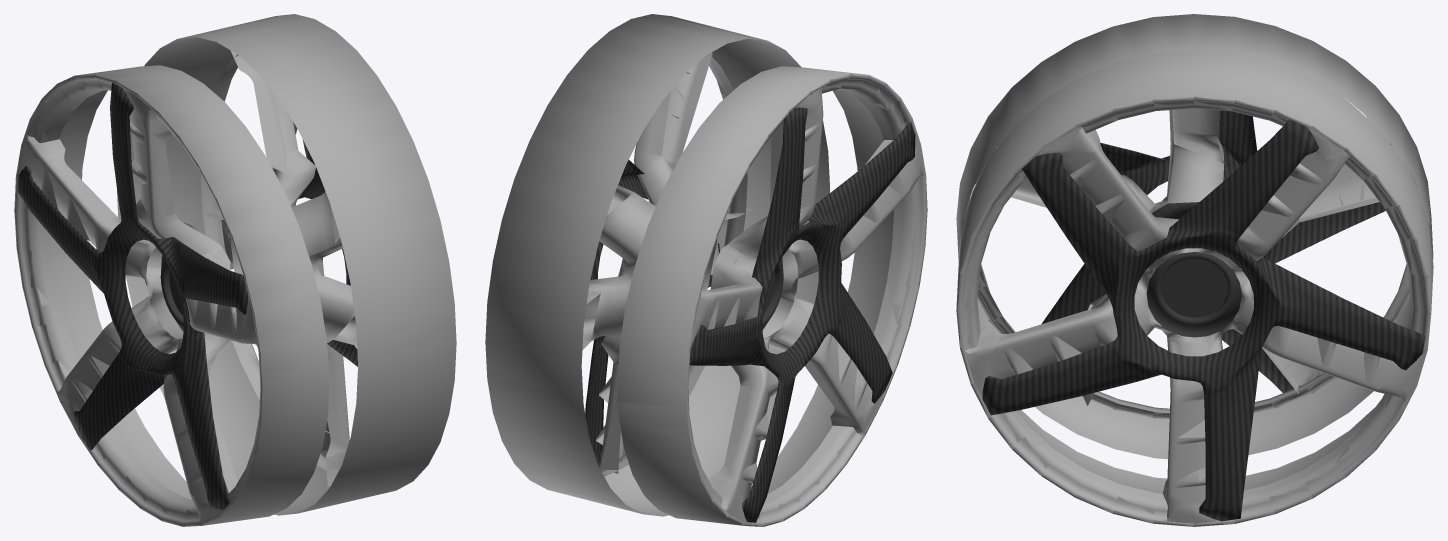
The model's file is rim2.glb.
3 renders of one model, left to right at view 1: azimuth 30°, elevation 25°; view 2: azimuth 150°, elevation 25°; view 3: azimuth 270°, elevation 25°, orthographic. The views are drawn at different scales.
Parts seen in each view (by area): view 1: rim2; view 2: rim2; view 3: rim2.
Boxes of the visible parts, bbox=[...] form: rim2: bbox=[14, 14, 456, 526]; rim2: bbox=[485, 14, 927, 526]; rim2: bbox=[956, 14, 1433, 526].
Bounding box in the file's own units: 0.9552 × 1.96 × 1.96.
Materials: 6 (2 with a texture image).
